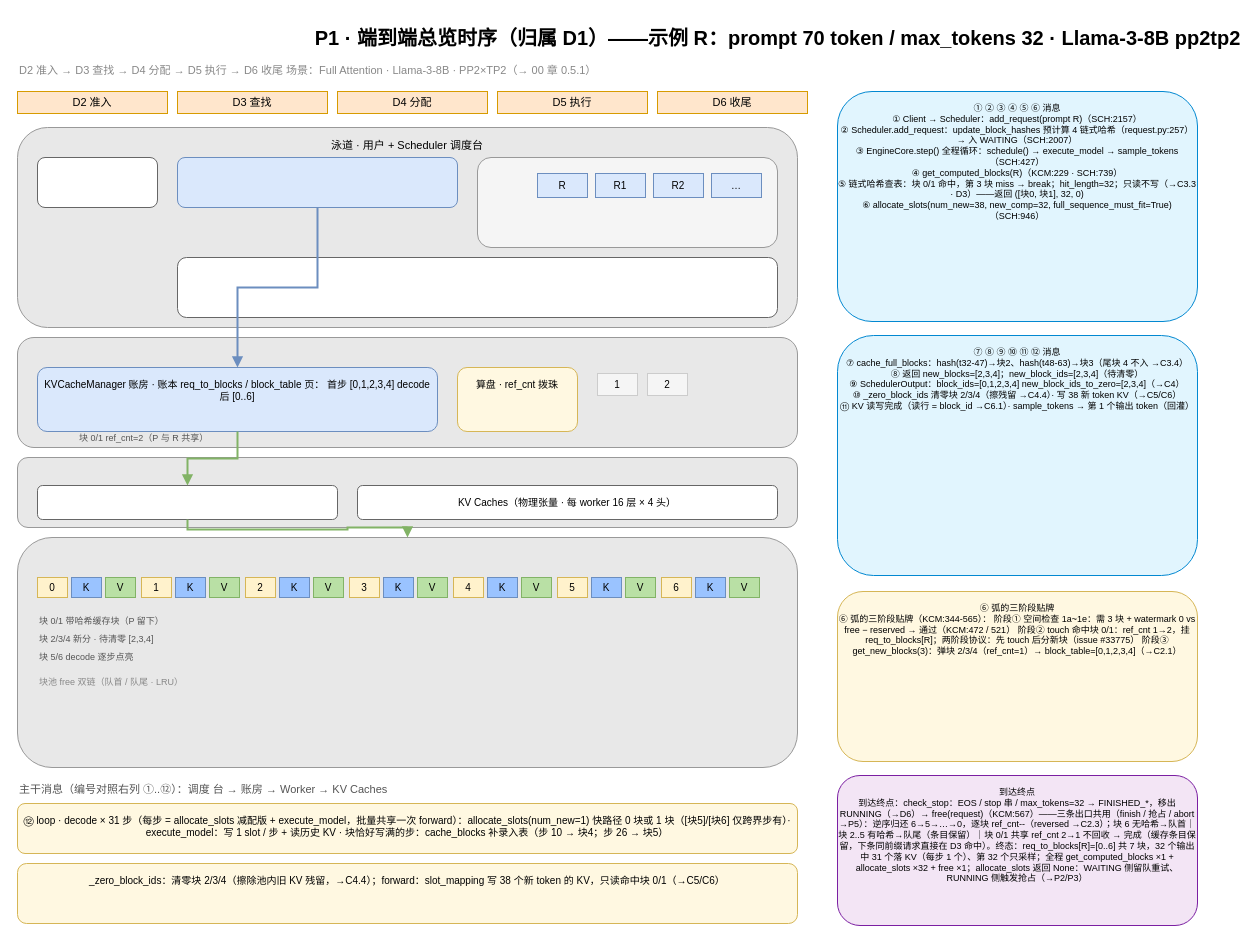
Image size: 1258x943. Some labels were removed from this diagram. Here are the shapes that lost their labels. From the top down, the box of each, then its label:
(36, 156, 158, 208): 用户（Client）
(176, 156, 458, 208): Scheduler 调度台 · schedule()（SCH:427）· EngineCore.step() 驱动循环
(476, 156, 778, 248): WAITING 排椅（双指链 SCH:2007）
(176, 256, 778, 318): RUNNING 圆桌（decode ×31 批量 forward）
(16, 336, 798, 448): 泳道 · KVCacheManager 账房
(36, 484, 338, 520): Worker GPUModelRunner
(16, 456, 798, 528): 泳道 · Worker GPUModelRunner
(16, 536, 798, 768): 泳道 · KV Caches（每 worker 16 层 × 4 头 · 网格=每块 3 格）
